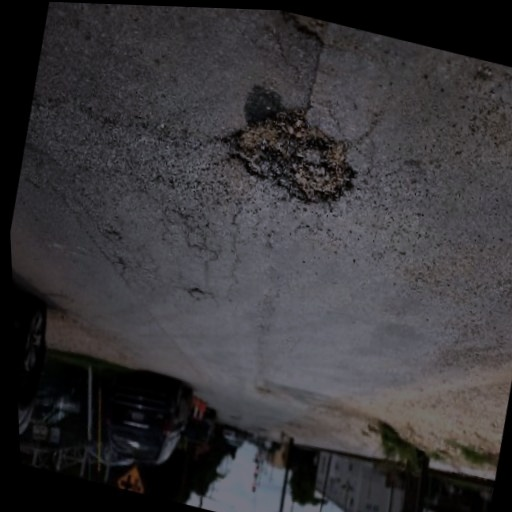pothole: (214, 96, 367, 215), (274, 11, 331, 52)
